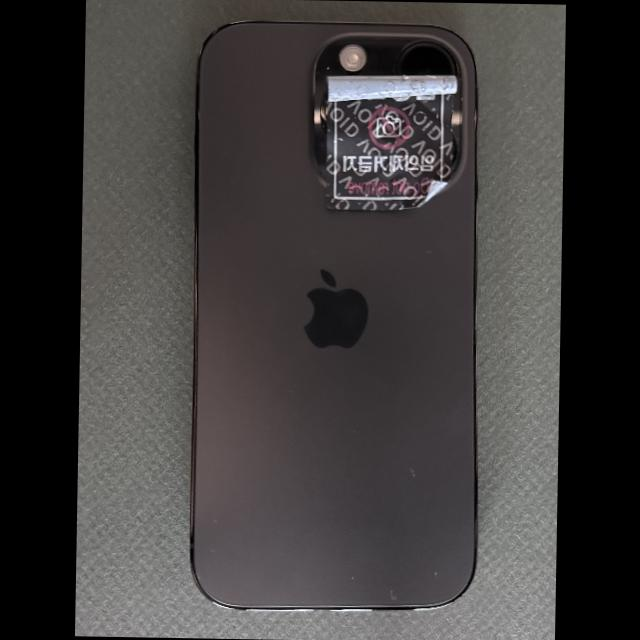lens: (395, 41, 455, 76), (320, 92, 327, 126), (452, 137, 456, 162)
phone: (188, 19, 478, 611)
sticker: (323, 74, 457, 211)
